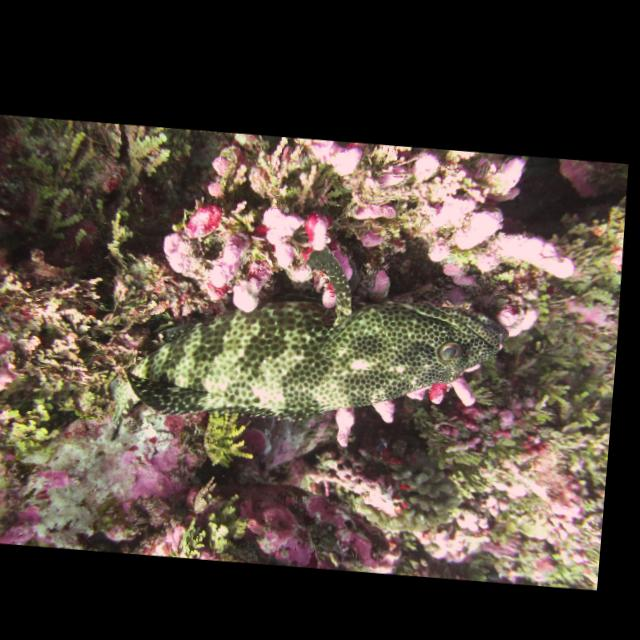Groupers: (104, 226, 511, 448)
